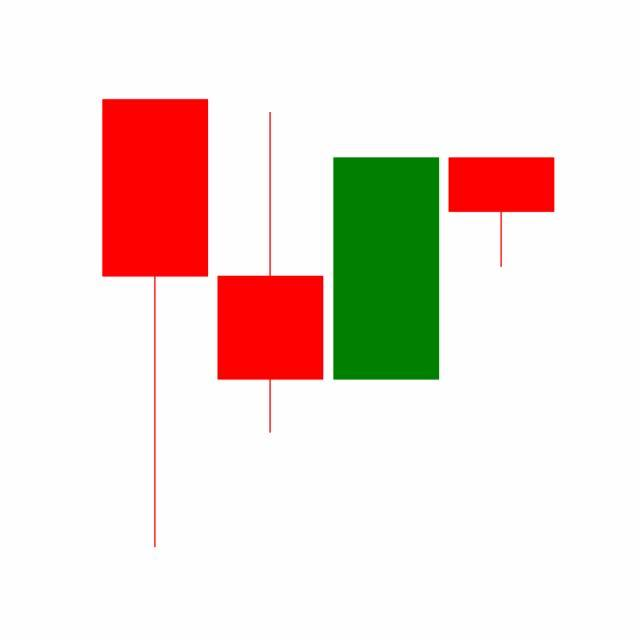Marubozu: (329, 155, 445, 383)
